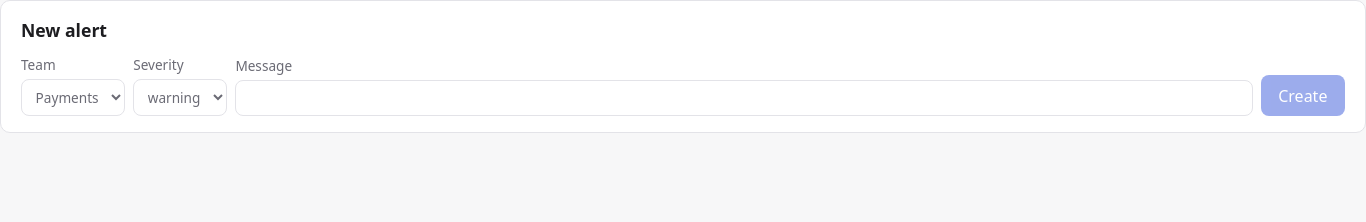
Test: NewAlert › shows why the api refused
The width and height of the screenshot is (1366, 222).
Type "x" into the field labelled "Message" at (744, 98), box [235, 80, 1253, 116]
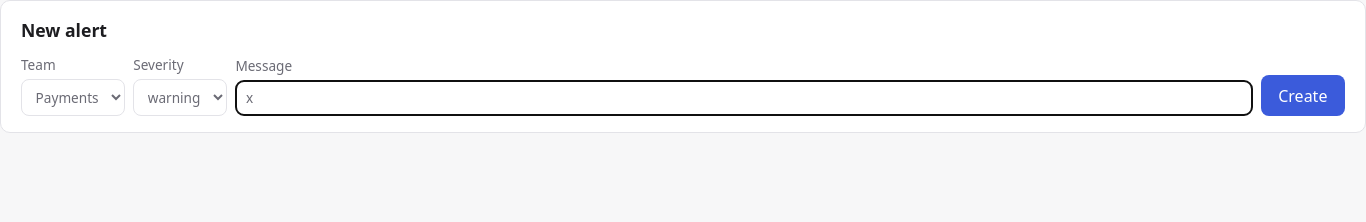
Click the button "Create" at (1303, 96), box [1261, 75, 1345, 116]
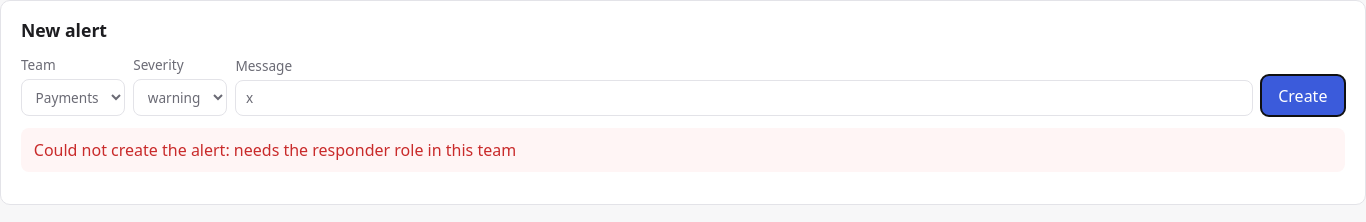
Check: the message shows "needs the responder role in this team", box [234, 139, 516, 161]
